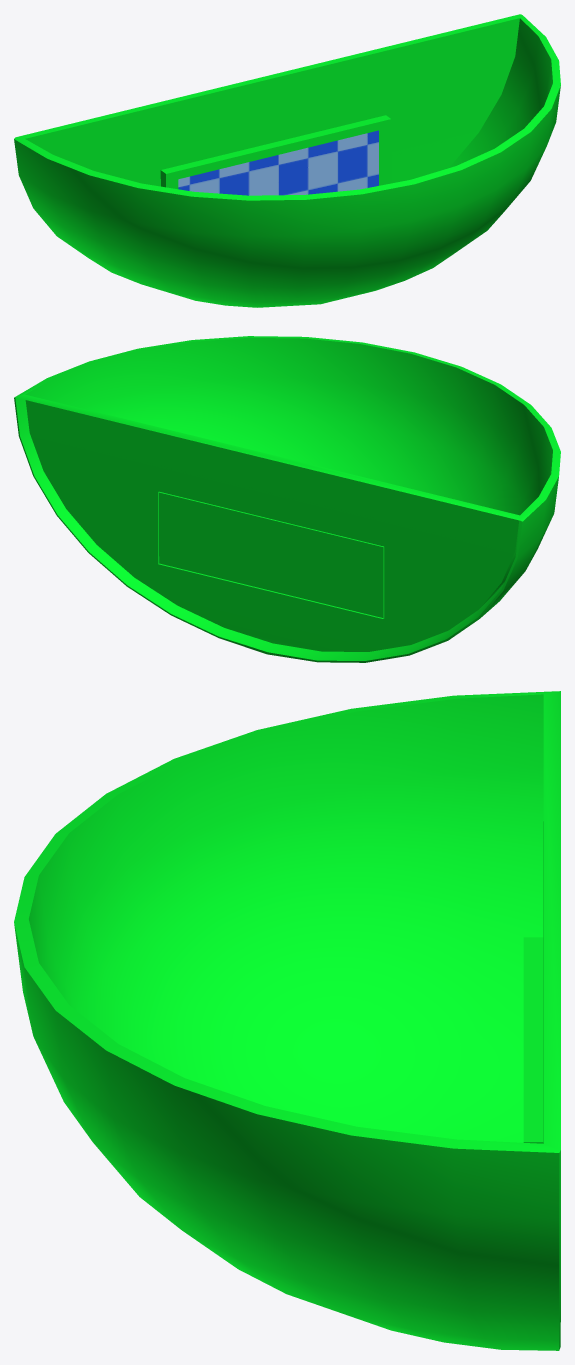
Rendered from LightWall07_1.FBX.
The picture shows the model from 3 angles, top to bottom: view 1: azimuth 30°, elevation 25°; view 2: azimuth 150°, elevation 25°; view 3: azimuth 270°, elevation 25°; orthographic projection. The views are drawn at different scales.
Parts seen in each view (by area): view 1: LightWall07_1; view 2: LightWall07_1; view 3: LightWall07_1.
Part boxes in pixels (box(x1,y1,x2,y2)): LightWall07_1: box(14, 14, 560, 307); LightWall07_1: box(14, 336, 560, 662); LightWall07_1: box(14, 691, 560, 1350).
Size of the model in its own units: 39.88 by 14.73 by 19.96.
